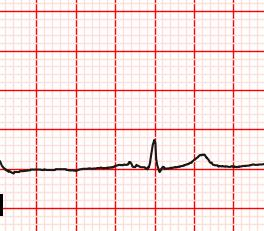LVH: (179, 151, 219, 170)
Poor R Progression: (144, 134, 161, 172)
